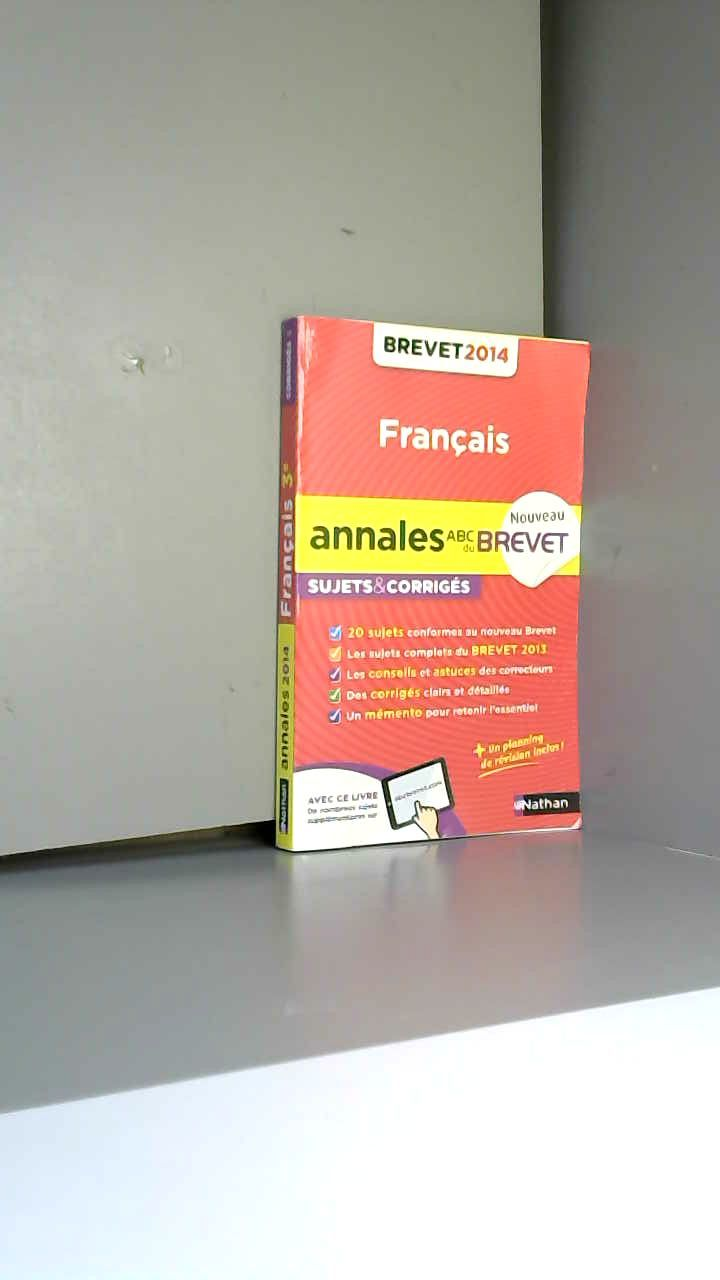book: (235, 282, 625, 888)
